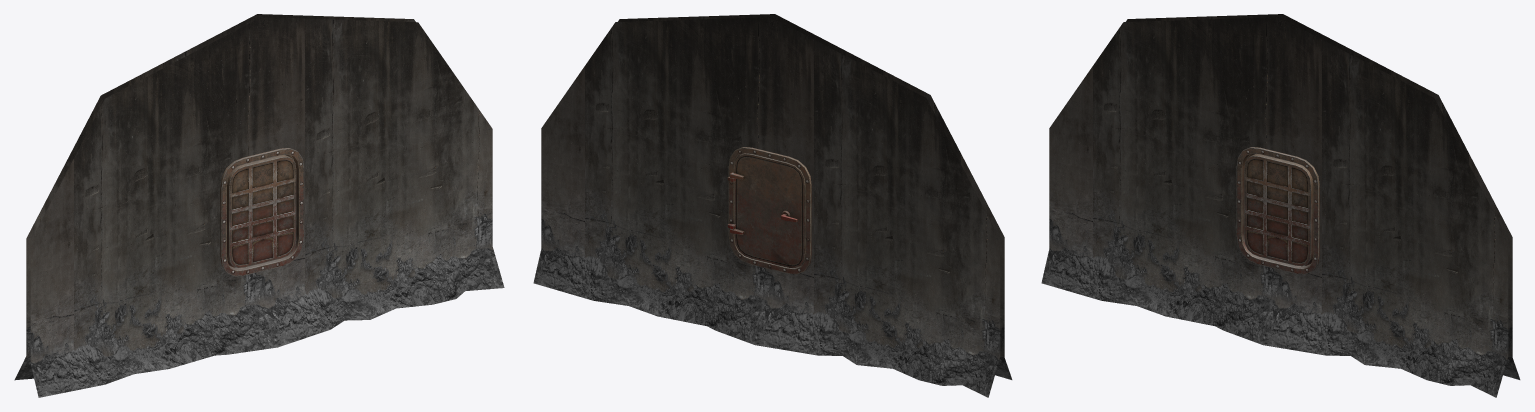
The model's file is hatch.dae.
3 views of the same model, side by side, from view 1: azimuth 30°, elevation 25°; view 2: azimuth 150°, elevation 25°; view 3: azimuth 330°, elevation 25° (orthographic).
Visible parts, largest first — view 1: Hatch_Wall, Hatch_Door, Hatch_Frame; view 2: Hatch_Wall, Hatch_Door, Hatch_Frame; view 3: Hatch_Wall, Hatch_Door, Hatch_Frame.
Part boxes in pixels (x1,y1,x2,y2): Hatch_Wall: (14,14,504,397); Hatch_Door: (227,154,296,267); Hatch_Frame: (220,148,303,276); Hatch_Wall: (533,14,1012,397); Hatch_Door: (730,153,805,268); Hatch_Frame: (727,147,811,274); Hatch_Wall: (1041,14,1520,397); Hatch_Door: (1244,153,1313,266); Hatch_Frame: (1236,147,1319,274).
Bounding box in the file's own units: 584 × 80.12 × 385.
Materials: 2 (2 with a texture image).
